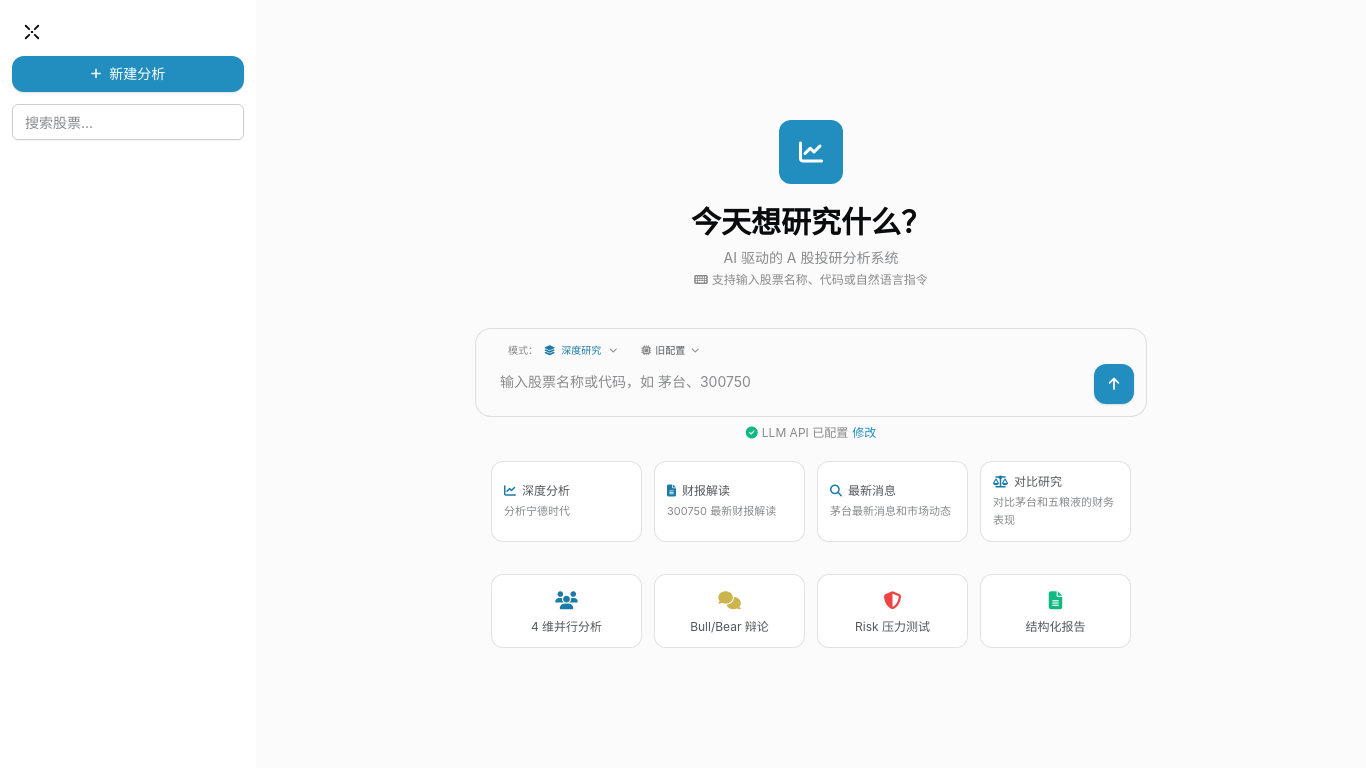
Test: 空态首页（replicate-chat-home） › 点击建议卡片填入输入框，不发出分析请求
Click the button with test id "suggestion-深度分析". click: (566, 502)
box: top-left (491, 461), bottom-right (642, 542)
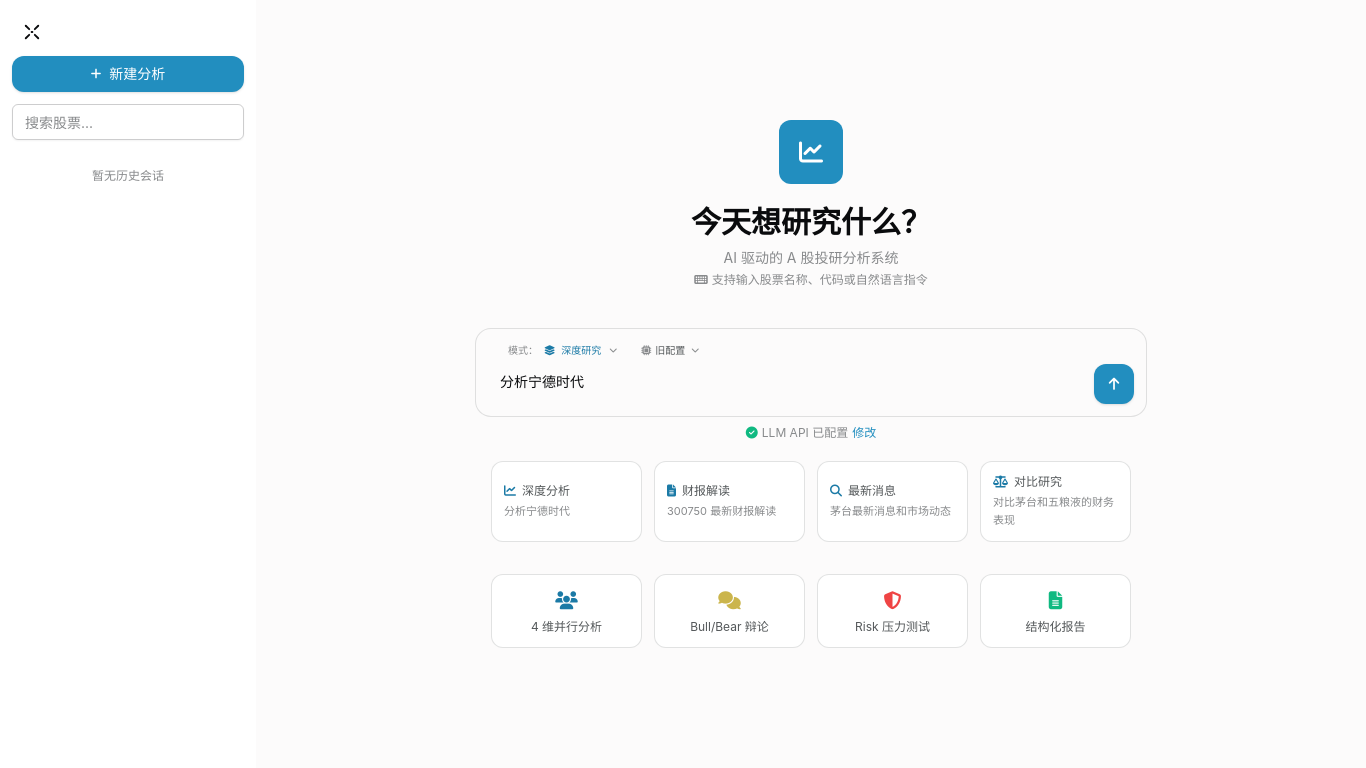
Expected: the text box with placeholder "输入股票名称或代码，如 茅台、300750" holds "分析宁德时代", top-left (484, 360), bottom-right (1086, 408)
